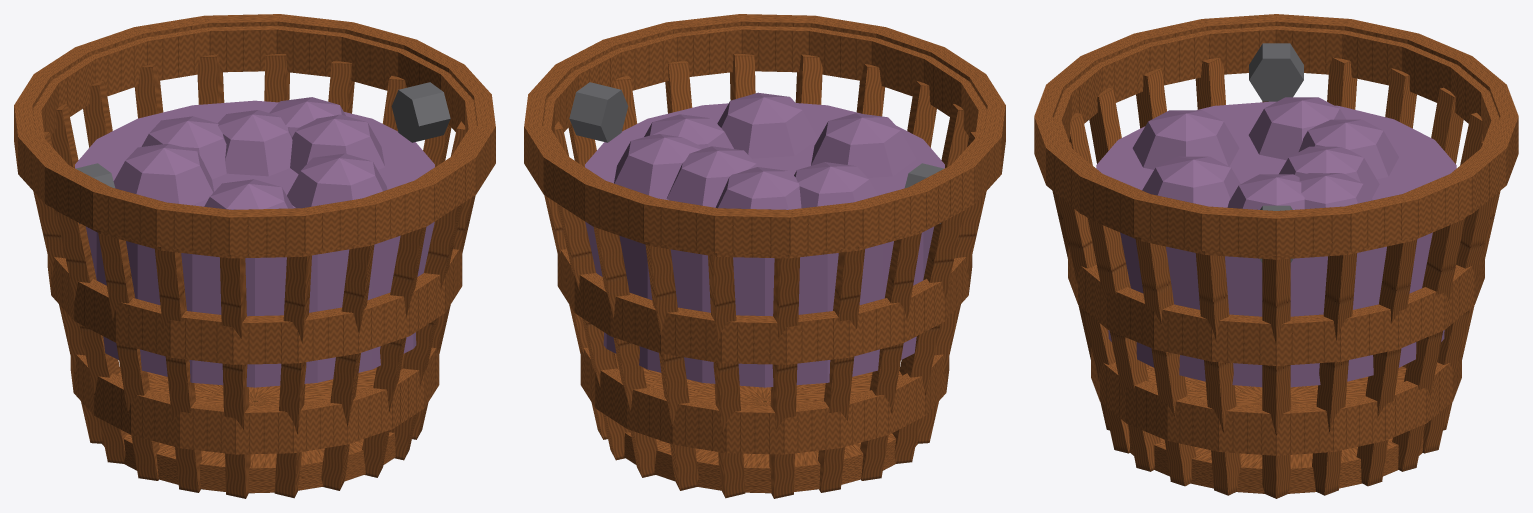
File: harvest-basket.glb
3 renders of one model, left to right at view 1: azimuth 30°, elevation 25°; view 2: azimuth 150°, elevation 25°; view 3: azimuth 270°, elevation 25°, orthographic.
Visible parts, largest first — view 1: harvest-basket-timber, harvest-basket-grape, harvest-basket-dark; view 2: harvest-basket-timber, harvest-basket-grape, harvest-basket-dark; view 3: harvest-basket-timber, harvest-basket-grape, harvest-basket-dark.
Part boxes in pixels (box(x1,y1,x2,y2)): harvest-basket-timber: box(14, 14, 495, 498); harvest-basket-grape: box(75, 97, 434, 387); harvest-basket-dark: box(76, 82, 450, 223); harvest-basket-timber: box(524, 14, 1005, 498); harvest-basket-grape: box(585, 92, 944, 387); harvest-basket-dark: box(569, 82, 943, 223); harvest-basket-timber: box(1034, 14, 1518, 498); harvest-basket-grape: box(1096, 97, 1456, 387); harvest-basket-dark: box(1249, 43, 1303, 262).
Bounding box in the file's own units: 0.53 × 0.3782 × 0.53.
3 materials, 1 textured.
